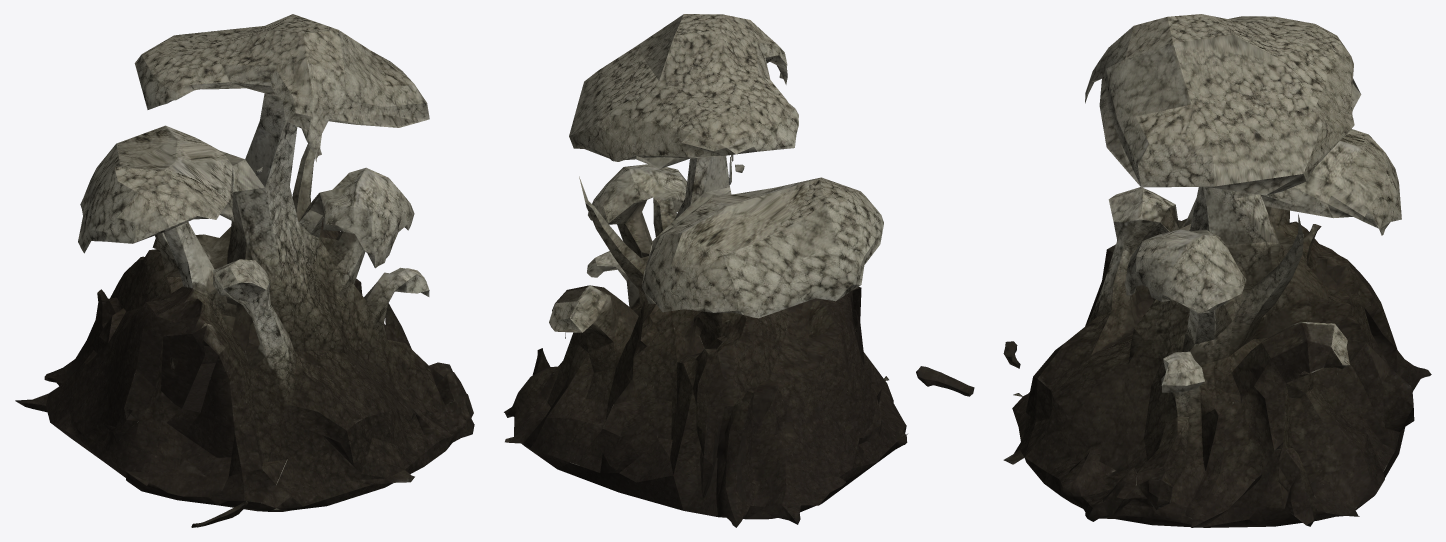
Rendered from b6-mushrooms.glb.
3 renders of one model, left to right at view 1: azimuth 30°, elevation 25°; view 2: azimuth 150°, elevation 25°; view 3: azimuth 270°, elevation 25°, orthographic. The views are drawn at different scales.
Size of the model in its own units: 1.54 by 1.78 by 1.56.
1 material, 1 textured.
